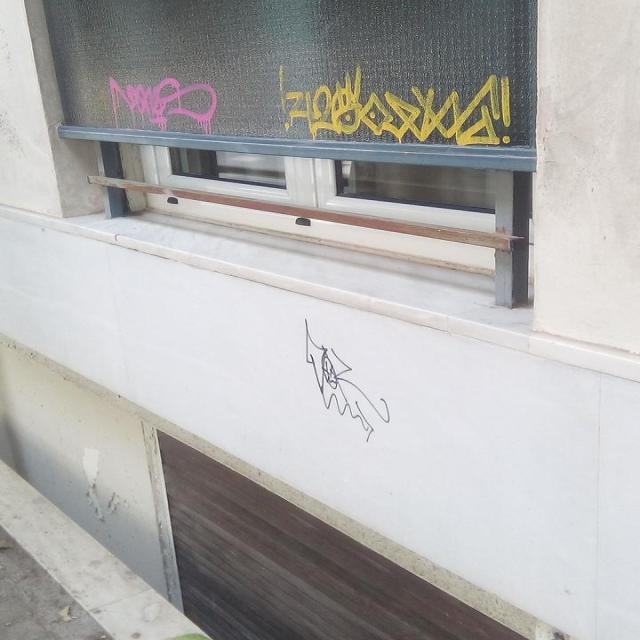nonspitting: (279, 67, 513, 149), (302, 318, 393, 434), (109, 72, 218, 132)
